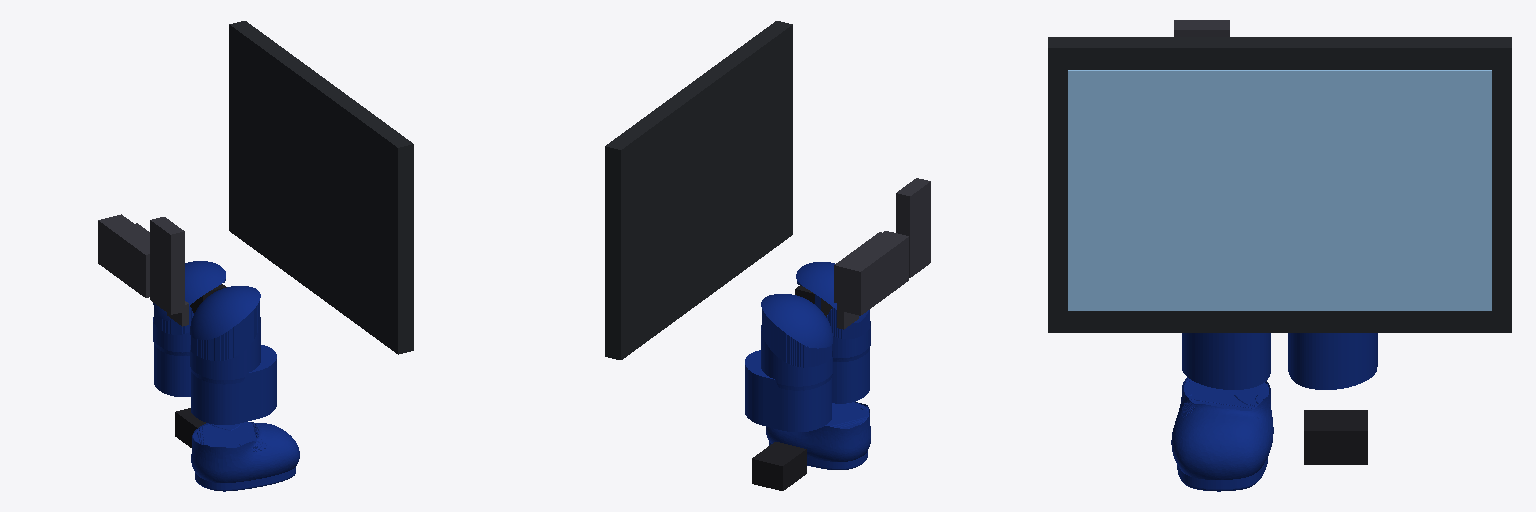
The robot description file, URDF, robot "haetburi":
<?xml version="1.0"?>
<!-- Haetburi biped (v20_xc330) - generated by tools/build_model.py, do not edit by hand -->
<robot name="haetburi">
  <mujoco>
    <compiler meshdir="." balanceinertia="true" discardvisual="false" strippath="false" fusestatic="false"/>
  </mujoco>
  <material name="display"><color rgba="0.18 0.19 0.21 1"/></material>
  <material name="screen"><color rgba="0.62 0.80 0.95 1"/></material>
  <material name="shell"><color rgba="0.106 0.216 0.541 1"/></material>
  <material name="motor"><color rgba="0.15 0.15 0.17 1"/></material>
  <material name="foot"><color rgba="0.25 0.25 0.28 1"/></material>
  <link name="world"/>
  <joint name="floating_base" type="floating">
    <parent link="world"/><child link="pelvis"/>
    <origin xyz="0 0 0" rpy="0 0 0"/>
  </joint>
  <link name="pelvis">
    <inertial>
      <origin xyz="-0.00895068 0.000350441 0.0458986" rpy="0 0 0"/>
      <mass value="0.464329"/>
      <inertia ixx="0.000711155" ixy="1.56698e-05" ixz="0.000276095" iyy="0.000817658" iyz="4.14491e-06" izz="0.000887111"/>
    </inertial>
    <visual><origin xyz="0 0 0" rpy="0 0 0"/><geometry><mesh filename="meshes/pelvis.stl"/></geometry><material name="shell"/></visual>
    <visual><origin xyz="0.010003 0.0200162 0.025" rpy="0 0 0"/><geometry><box size="0.02 0.026 0.034"/></geometry><material name="motor"/></visual>
    <visual><origin xyz="0.010497 -0.0203619 0.027" rpy="0 0 0"/><geometry><box size="0.02 0.026 0.034"/></geometry><material name="motor"/></visual>
    <visual><origin xyz="-0.055909 0.012446 0.082369" rpy="0 0 0"/><geometry><box size="0.02 0.07 0.035"/></geometry><material name="foot"/></visual>
    <visual><origin xyz="-0.058359 -0.041454 0.097069" rpy="0 0 0"/><geometry><box size="0.012 0.03 0.065"/></geometry><material name="foot"/></visual>
    <visual><origin xyz="-0.041209 0.005096 0.079919" rpy="0 0 0"/><geometry><box size="0.006 0.065 0.03"/></geometry><material name="foot"/></visual>
    <visual><origin xyz="-0.026509 -0.002254 0.038269" rpy="0 0 0"/><geometry><box size="0.006 0.022 0.017"/></geometry><material name="foot"/></visual>
    <collision><origin xyz="0.00854514 -0.00016741 0.03799" rpy="0 0 0"/><geometry><box size="0.102452 0.13605 0.04358"/></geometry></collision>
  </link>
  <link name="torso">
    <inertial>
      <origin xyz="0.0304346 9.21525e-05 0.127815" rpy="0 0 0"/>
      <mass value="2.49671"/>
      <inertia ixx="0.0486542" ixy="-0.000109285" ixz="0.00845894" iyy="0.047975" iyz="-0.000116759" izz="0.0276872"/>
    </inertial>
    <visual><origin xyz="0 0 0" rpy="0 0 0"/><geometry><mesh filename="meshes/torso.stl"/></geometry><material name="shell"/></visual>
    <visual><origin xyz="0.096141 0 0.0478113" rpy="0 0 0"/><geometry><box size="0.013524 0.247548 0.167345"/></geometry><material name="display"/></visual>
    <visual><origin xyz="0.102903 0 0.0478113" rpy="0 0 0"/><geometry><box size="0.0004 0.225792 0.14112"/></geometry><material name="screen"/></visual>
    <collision><origin xyz="-0.0446378 -2.07797e-06 0.032932" rpy="0 0 0"/><geometry><box size="0.209525 0.142073 0.139911"/></geometry></collision>
    <collision><origin xyz="0.0545076 0.110048 0.0663604" rpy="0 0 0"/><geometry><sphere radius="0.0796041"/></geometry></collision>
    <collision><origin xyz="0.0548844 -0.110217 0.0663604" rpy="0 0 0"/><geometry><sphere radius="0.0795276"/></geometry></collision>
    <collision><origin xyz="-0.00684162 0.000349887 0.134345" rpy="0 0 0"/><geometry><sphere radius="0.136537"/></geometry></collision>
    <collision><origin xyz="-0.0119218 -0.00016086 0.197217" rpy="0 0 0"/><geometry><sphere radius="0.157523"/></geometry></collision>
    <collision><origin xyz="-0.0181535 -0.000265494 0.260099" rpy="0 0 0"/><geometry><sphere radius="0.155698"/></geometry></collision>
    <collision><origin xyz="-0.0142413 0.00112154 0.322979" rpy="0 0 0"/><geometry><sphere radius="0.135386"/></geometry></collision>
    <collision><origin xyz="-0.00842703 0.00887726 0.385897" rpy="0 0 0"/><geometry><sphere radius="0.0964986"/></geometry></collision>
    <collision><origin xyz="-0.0154437 -0.00293413 0.44876" rpy="0 0 0"/><geometry><sphere radius="0.056001"/></geometry></collision>
    <collision><origin xyz="0.096141 0 0.0478113" rpy="0 0 0"/><geometry><box size="0.013524 0.247548 0.167345"/></geometry></collision>
  </link>
  <link name="leg_l">
    <inertial>
      <origin xyz="-0.00456159 0.00731226 -0.0262501" rpy="0 0 0"/>
      <mass value="0.173856"/>
      <inertia ixx="0.000142389" ixy="1.43772e-06" ixz="6.57061e-06" iyy="0.000155417" iyz="-1.85411e-07" izz="8.12257e-05"/>
    </inertial>
    <visual><origin xyz="0 0 0" rpy="0 0 0"/><geometry><mesh filename="meshes/leg_l.stl"/></geometry><material name="shell"/></visual>
    <visual><origin xyz="0.00674515 0.00506 -0.0342" rpy="0 0 0"/><geometry><box size="0.02 0.026 0.034"/></geometry><material name="motor"/></visual>
    <collision><origin xyz="-0.00310267 0.00809104 -0.00908967" rpy="0 0 0"/><geometry><box size="0.0667356 0.0485022 0.0922207"/></geometry></collision>
  </link>
  <link name="ankle_l">
    <inertial>
      <origin xyz="-0.00230577 -0.00194137 -0.02664" rpy="0 0 0"/>
      <mass value="0.0201049"/>
      <inertia ixx="7.43673e-06" ixy="0" ixz="0" iyy="5.42624e-06" iyz="0" izz="3.35082e-06"/>
    </inertial>
  </link>
  <link name="foot_l">
    <inertial>
      <origin xyz="0.00151836 0.00765724 -0.00188504" rpy="0 0 0"/>
      <mass value="0.108166"/>
      <inertia ixx="3.82088e-05" ixy="-2.04857e-06" ixz="-5.5707e-07" iyy="5.63009e-05" iyz="-1.65069e-06" izz="6.65931e-05"/>
    </inertial>
    <visual><origin xyz="0 0 0" rpy="0 0 0"/><geometry><mesh filename="meshes/foot_l.stl"/></geometry><material name="shell"/></visual>
    <visual><origin xyz="0 0.0088 8.88178e-19" rpy="0 0 0"/><geometry><box size="0.026 0.034 0.02"/></geometry><material name="motor"/></visual>
    <collision><origin xyz="0 0 0" rpy="0 0 0"/><geometry><mesh filename="meshes/foot_l.stl"/></geometry></collision>
  </link>
  <link name="leg_r">
    <inertial>
      <origin xyz="-0.00504438 -0.00727573 -0.0277218" rpy="0 0 0"/>
      <mass value="0.175039"/>
      <inertia ixx="0.000149001" ixy="-1.51742e-06" ixz="6.68197e-06" iyy="0.000161866" iyz="6.71009e-08" izz="8.18759e-05"/>
    </inertial>
    <visual><origin xyz="0 0 0" rpy="0 0 0"/><geometry><mesh filename="meshes/leg_r.stl"/></geometry><material name="shell"/></visual>
    <visual><origin xyz="0.00623131 -0.00506 -0.0362" rpy="0 0 0"/><geometry><box size="0.02 0.026 0.034"/></geometry><material name="motor"/></visual>
    <collision><origin xyz="-0.00359518 -0.00806936 -0.00983185" rpy="0 0 0"/><geometry><box size="0.066693 0.0486026 0.0947363"/></geometry></collision>
  </link>
  <link name="ankle_r">
    <inertial>
      <origin xyz="-0.00247529 0.0018634 -0.02664" rpy="0 0 0"/>
      <mass value="0.0201049"/>
      <inertia ixx="7.43673e-06" ixy="0" ixz="0" iyy="5.42624e-06" iyz="0" izz="3.35082e-06"/>
    </inertial>
  </link>
  <link name="foot_r">
    <inertial>
      <origin xyz="0.00167186 -0.00757097 -0.00193996" rpy="0 0 0"/>
      <mass value="0.107887"/>
      <inertia ixx="3.79326e-05" ixy="2.17018e-06" ixz="-4.94496e-07" iyy="5.60583e-05" iyz="1.63832e-06" izz="6.63659e-05"/>
    </inertial>
    <visual><origin xyz="0 0 0" rpy="0 0 0"/><geometry><mesh filename="meshes/foot_r.stl"/></geometry><material name="shell"/></visual>
    <visual><origin xyz="0 -0.0088 8.88178e-19" rpy="0 0 0"/><geometry><box size="0.026 0.034 0.02"/></geometry><material name="motor"/></visual>
    <collision><origin xyz="0 0 0" rpy="0 0 0"/><geometry><mesh filename="meshes/foot_r.stl"/></geometry></collision>
  </link>
  <joint name="waist_fixed" type="fixed">
    <parent link="pelvis"/><child link="torso"/>
    <origin xyz="0 0 0.05978" rpy="0 0 0"/>
  </joint>
  <joint name="hip_pitch_l" type="revolute">
    <parent link="pelvis"/><child link="leg_l"/>
    <origin xyz="0.010003 0.0200162 0.0162" rpy="0 0 0"/>
    <axis xyz="0 1 0"/>
    <limit lower="-0.523599" upper="0.418879" effort="1.0" velocity="7.43"/>
    <dynamics damping="0.07142857142857144" friction="0.028571428571428574"/>
  </joint>
  <joint name="hip_pitch_r" type="revolute">
    <parent link="pelvis"/><child link="leg_r"/>
    <origin xyz="0.010497 -0.0203619 0.0182" rpy="0 0 0"/>
    <axis xyz="0 1 0"/>
    <limit lower="-0.523599" upper="0.418879" effort="1.0" velocity="7.43"/>
    <dynamics damping="0.07142857142857144" friction="0.028571428571428574"/>
  </joint>
  <joint name="ankle_pitch_l" type="revolute">
    <parent link="leg_l"/><child link="ankle_l"/>
    <origin xyz="0.00674515 0.00506 -0.043" rpy="0 0 0"/>
    <axis xyz="0 1 0"/>
    <limit lower="-0.261799" upper="0.261799" effort="1.0" velocity="7.43"/>
    <dynamics damping="0.07142857142857144" friction="0.028571428571428574"/>
  </joint>
  <joint name="ankle_pitch_r" type="revolute">
    <parent link="leg_r"/><child link="ankle_r"/>
    <origin xyz="0.00623131 -0.00506 -0.045" rpy="0 0 0"/>
    <axis xyz="0 1 0"/>
    <limit lower="-0.261799" upper="0.261799" effort="1.0" velocity="7.43"/>
    <dynamics damping="0.07142857142857144" friction="0.028571428571428574"/>
  </joint>
  <joint name="ankle_roll_l" type="revolute">
    <parent link="ankle_l"/><child link="foot_l"/>
    <origin xyz="-0.00461153 -0.00388274 -0.05328" rpy="0 0 0"/>
    <axis xyz="1 0 0"/>
    <limit lower="-0.261799" upper="0.261799" effort="1.0" velocity="7.43"/>
    <dynamics damping="0.07142857142857144" friction="0.028571428571428574"/>
  </joint>
  <joint name="ankle_roll_r" type="revolute">
    <parent link="ankle_r"/><child link="foot_r"/>
    <origin xyz="-0.00495057 0.00372681 -0.05328" rpy="0 0 0"/>
    <axis xyz="1 0 0"/>
    <limit lower="-0.261799" upper="0.261799" effort="1.0" velocity="7.43"/>
    <dynamics damping="0.07142857142857144" friction="0.028571428571428574"/>
  </joint>
</robot>

--- Render facts (derived) ---
3 views of the same robot in one strip: view 1: azimuth 30°, elevation 25°; view 2: azimuth 150°, elevation 25°; view 3: azimuth 270°, elevation 25° (orthographic).
Model haetburi with 9 links and 8 joints (6 revolute, 1 fixed, 1 floating), rooted at world, posed all joints at 0.
Visible links, largest first — view 1: torso, leg_r, pelvis, foot_r, leg_l, foot_l; view 2: torso, leg_l, pelvis, leg_r, foot_r, foot_l; view 3: torso, foot_r, leg_l, leg_r, foot_l, pelvis.
Link boxes in pixels (box(x1,y1,x2,y2)): torso: box(229, 21, 413, 354); leg_r: box(190, 286, 276, 424); pelvis: box(98, 214, 226, 326); foot_r: box(191, 422, 299, 491); leg_l: box(153, 261, 225, 396); foot_l: box(175, 408, 205, 447); torso: box(605, 21, 792, 359); leg_l: box(745, 294, 832, 431); pelvis: box(795, 178, 930, 329); leg_r: box(796, 262, 870, 403); foot_r: box(766, 402, 870, 469); foot_l: box(752, 442, 806, 490); torso: box(1048, 37, 1511, 332); foot_r: box(1171, 377, 1273, 491); leg_l: box(1288, 333, 1377, 389); leg_r: box(1182, 333, 1270, 389); foot_l: box(1304, 410, 1367, 464); pelvis: box(1174, 20, 1229, 36).
Size in the robot's own frame: 0.169 by 0.2475 by 0.2853 metres.
Meshes: 6 distinct files referenced, 3 mesh visuals loaded (3 binary STL); not drawn: 3 (reference not matched to a file when rendering).
